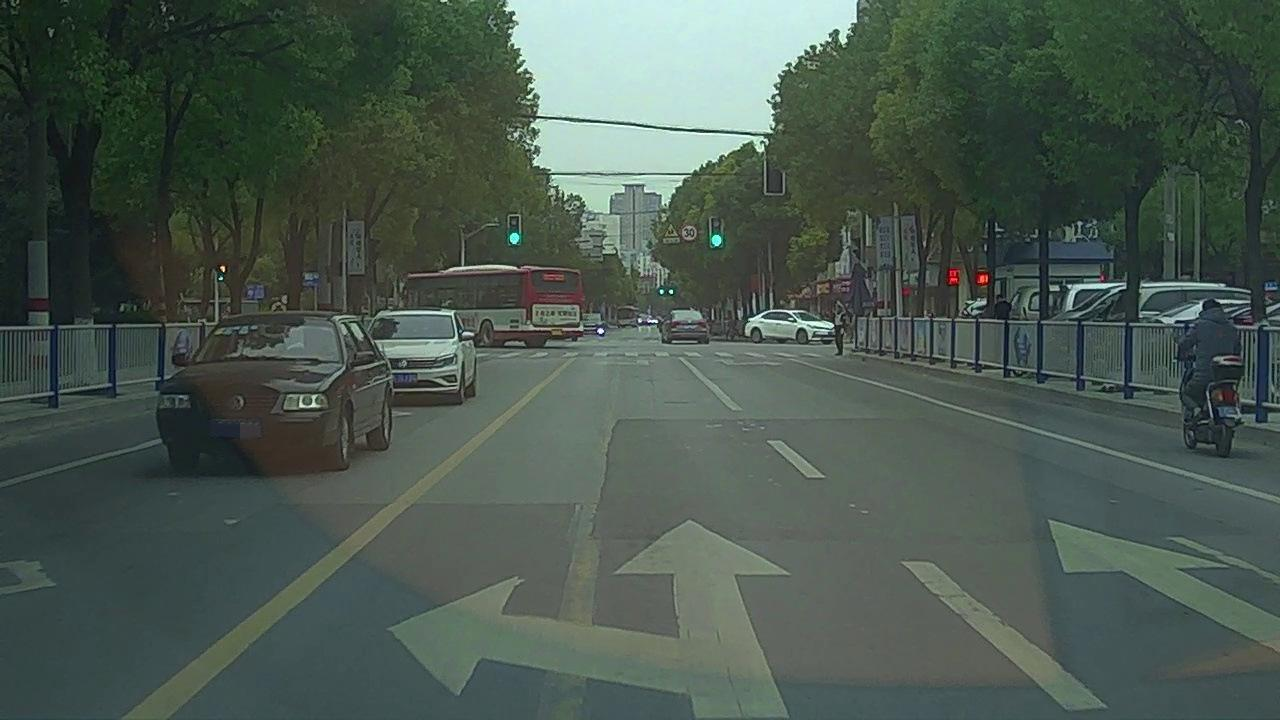traffic_light: (766, 150, 784, 194), (510, 213, 522, 247), (710, 217, 723, 247)
